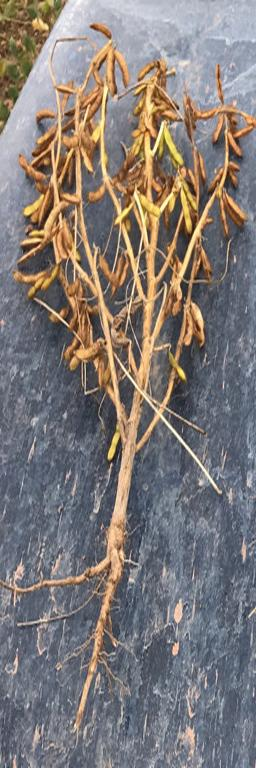pod: (164, 126, 185, 167), (179, 189, 195, 233), (190, 300, 205, 346), (167, 355, 186, 385), (114, 51, 130, 84), (26, 275, 47, 299), (138, 193, 160, 215), (211, 114, 225, 147), (108, 430, 121, 465), (226, 132, 243, 157), (87, 183, 107, 202), (34, 110, 56, 122), (61, 193, 81, 205)
soy: (2, 4, 256, 720)
